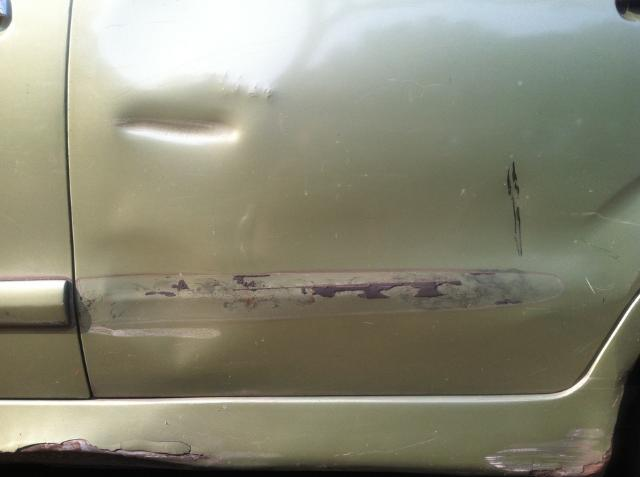Door: (73, 0, 640, 389)
